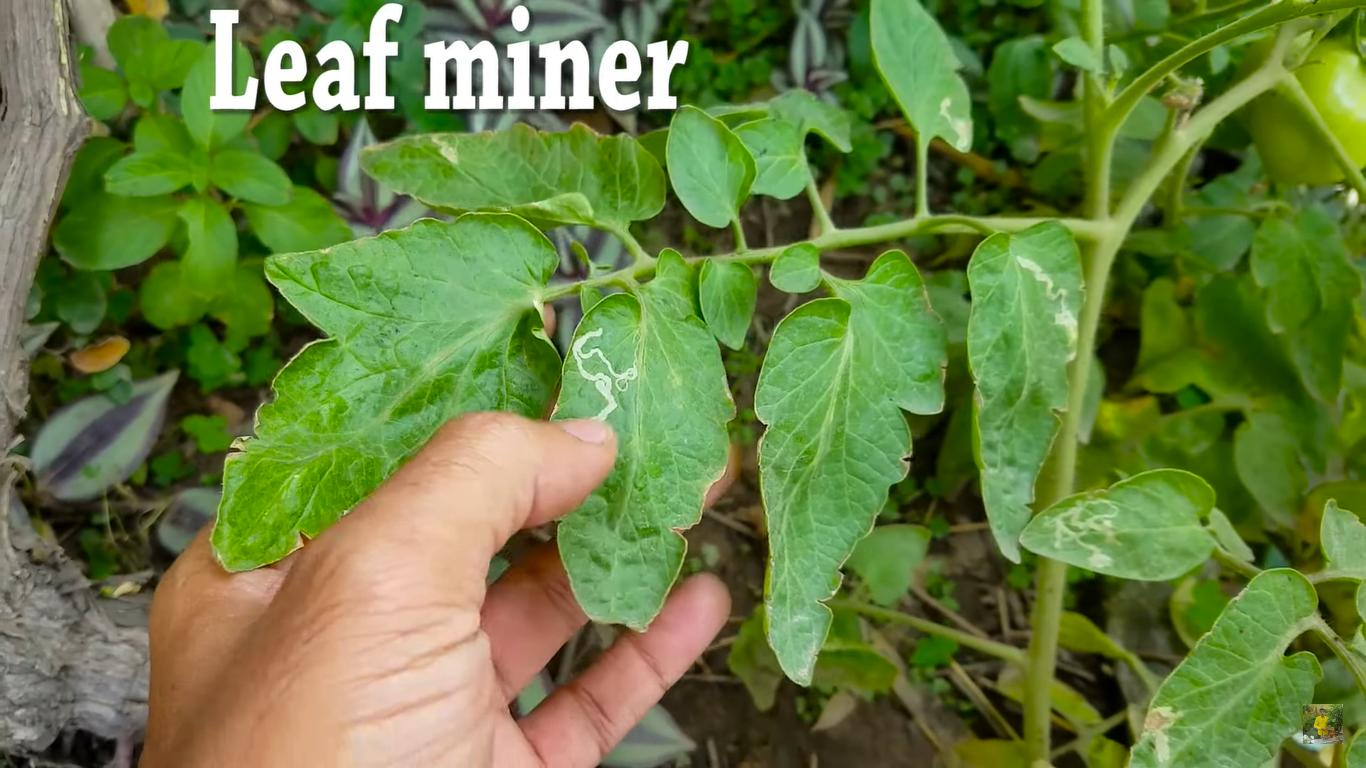Healthy: (661, 104, 759, 231), (698, 253, 757, 354)
Leaf_Miner: (548, 246, 736, 636), (1123, 564, 1326, 768), (967, 218, 1083, 566), (357, 121, 669, 227), (1018, 466, 1218, 581), (864, 0, 976, 154)
